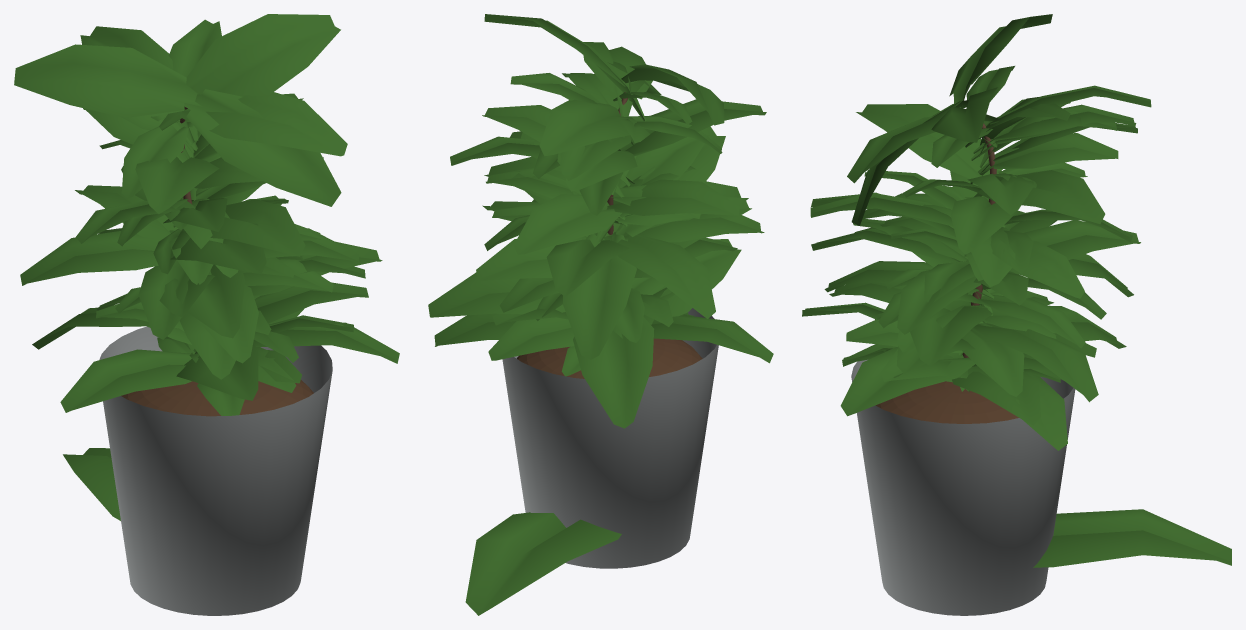
File: potplant.gltf
3 views of the same model, side by side, from view 1: azimuth 30°, elevation 25°; view 2: azimuth 150°, elevation 25°; view 3: azimuth 270°, elevation 25° (orthographic). The views are drawn at different scales.
Parts seen in each view (by area): view 1: leaf (×42), pot, Sphere; view 2: leaf (×42), pot, Sphere; view 3: leaf (×50), pot, Sphere.
Part boxes in pixels (<box>): leaf (×42): <box>14,14,399,520</box>; pot: <box>99,326,332,615</box>; Sphere: <box>121,380,313,416</box>; leaf (×42): <box>428,14,773,615</box>; pot: <box>502,308,718,568</box>; Sphere: <box>517,338,702,378</box>; leaf (×50): <box>802,14,1231,567</box>; pot: <box>851,359,1075,615</box>; Sphere: <box>875,381,1018,423</box>.
Size of the model in its own units: 2.57 by 4.36 by 3.22.
